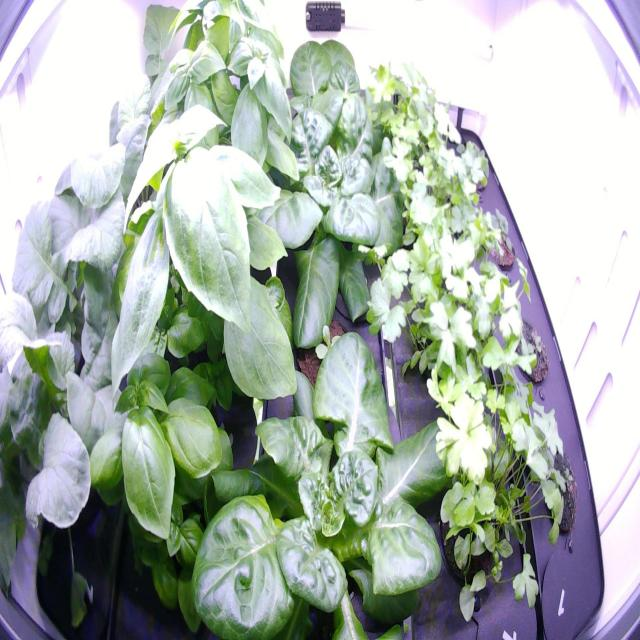young: (177, 298, 470, 638), (238, 91, 416, 362), (248, 25, 388, 171), (282, 292, 362, 406)
